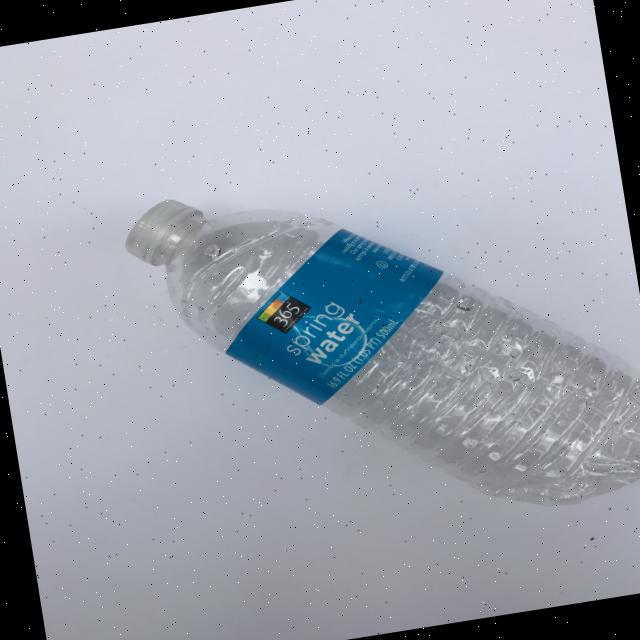plastic: (118, 128, 640, 567)
